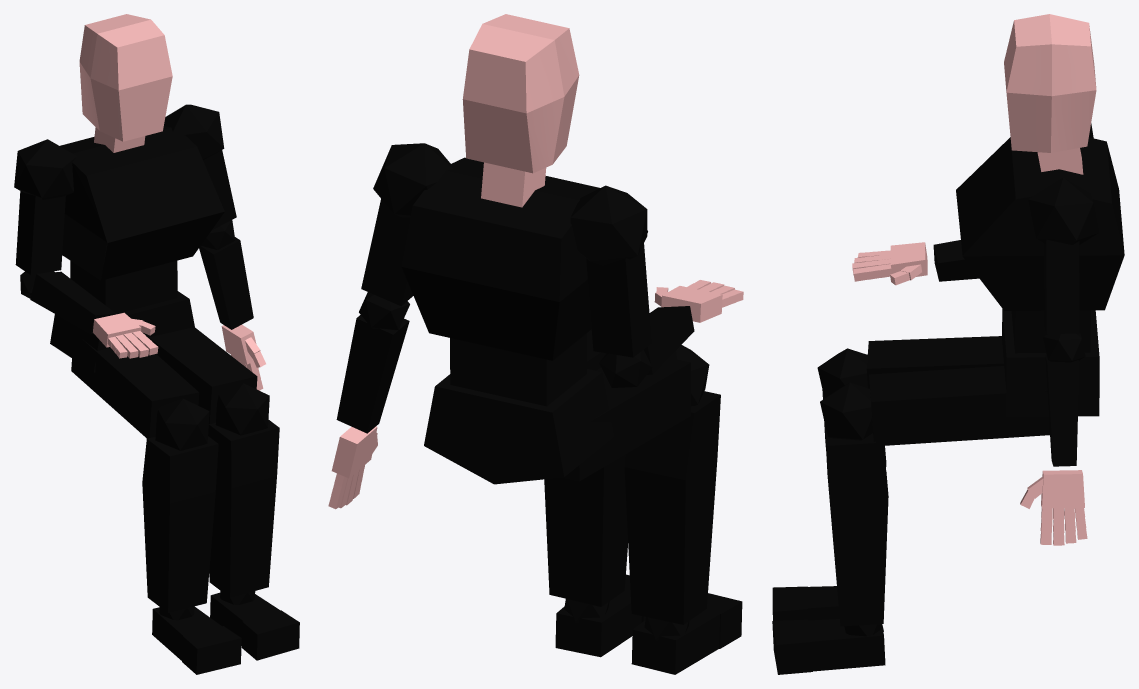
File: recepcionista_cuerpo.obj
3 renders of one model, left to right at view 1: azimuth 30°, elevation 25°; view 2: azimuth 150°, elevation 25°; view 3: azimuth 270°, elevation 25°, orthographic. The views are drawn at different scales.
Bounding box in the file's own units: 1.35 × 3 × 1.55.
